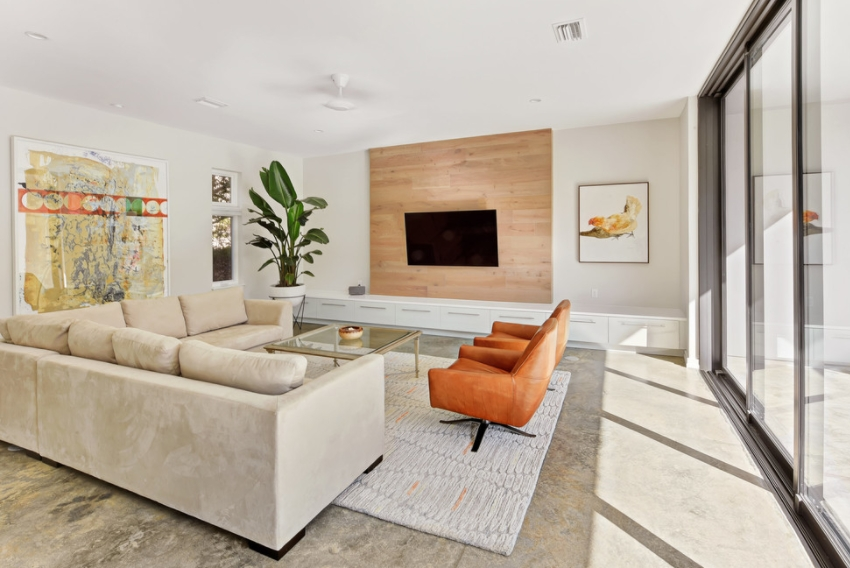TV: (402, 206, 500, 269)
TV stand: (304, 290, 689, 355)
chair: (426, 316, 557, 454), (472, 298, 571, 364)
large plant: (242, 160, 329, 305)
sofa: (0, 282, 391, 560)
table: (262, 320, 423, 377)
wall art: (6, 132, 170, 313), (575, 178, 652, 265)
